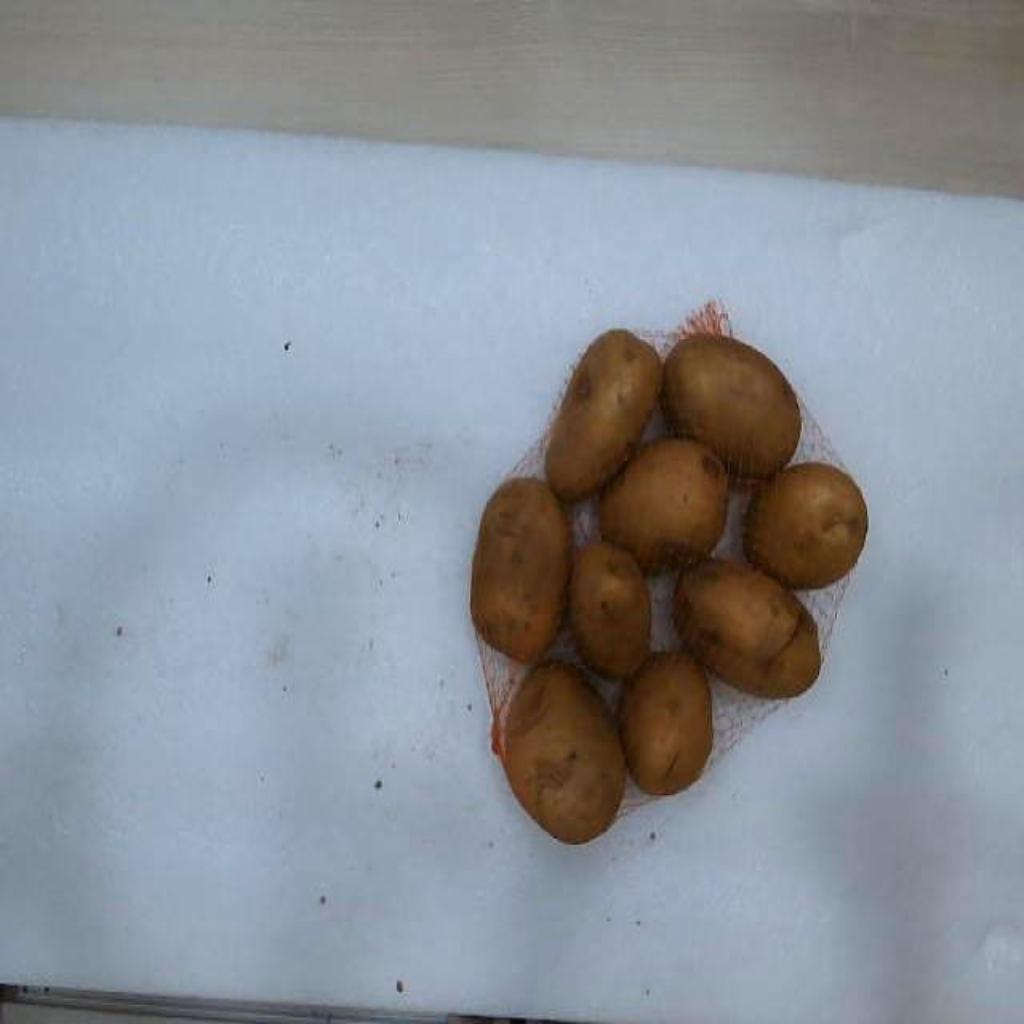potato: (506, 661, 622, 841), (664, 333, 802, 479), (674, 560, 820, 697), (546, 331, 662, 500), (470, 477, 572, 664), (602, 440, 728, 569), (744, 467, 868, 588), (620, 651, 712, 795), (572, 544, 650, 676)
